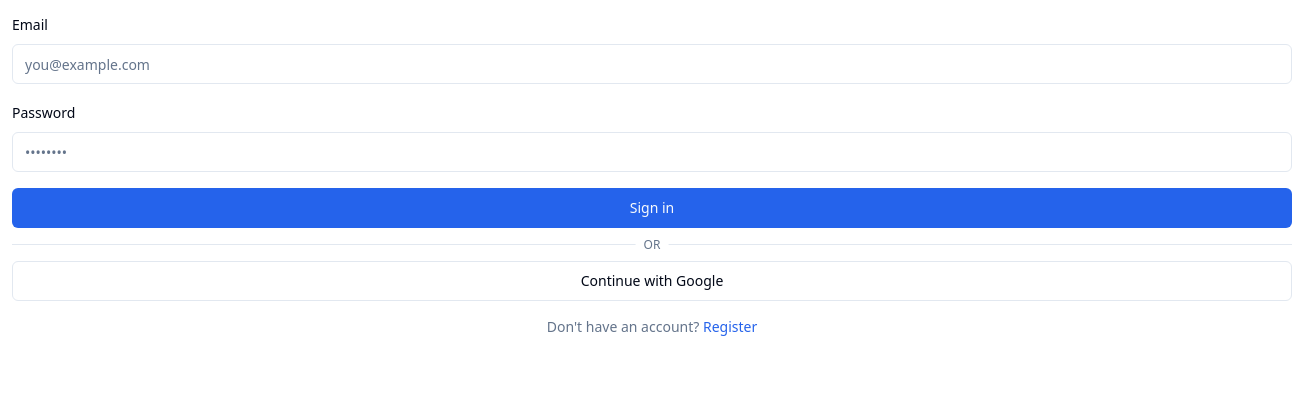
Test: LoginForm › shows email validation error for invalid email
Type "not-an-email" into the field with placeholder "you@example.com".
click(652, 64); type("not-an-email")  # box x1=12 y1=44 x2=1292 y2=84
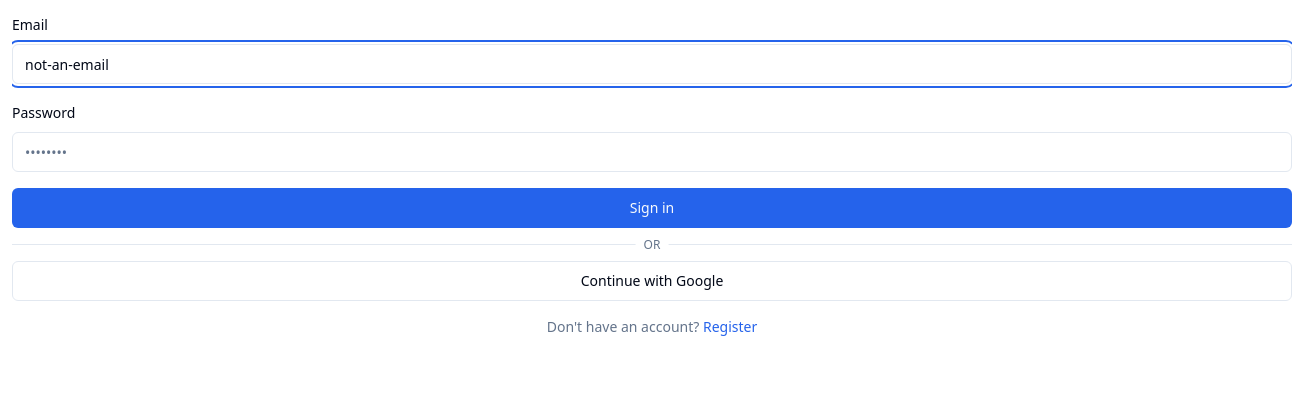
Click the button "Sign in".
click(652, 208)  # box x1=12 y1=188 x2=1292 y2=228
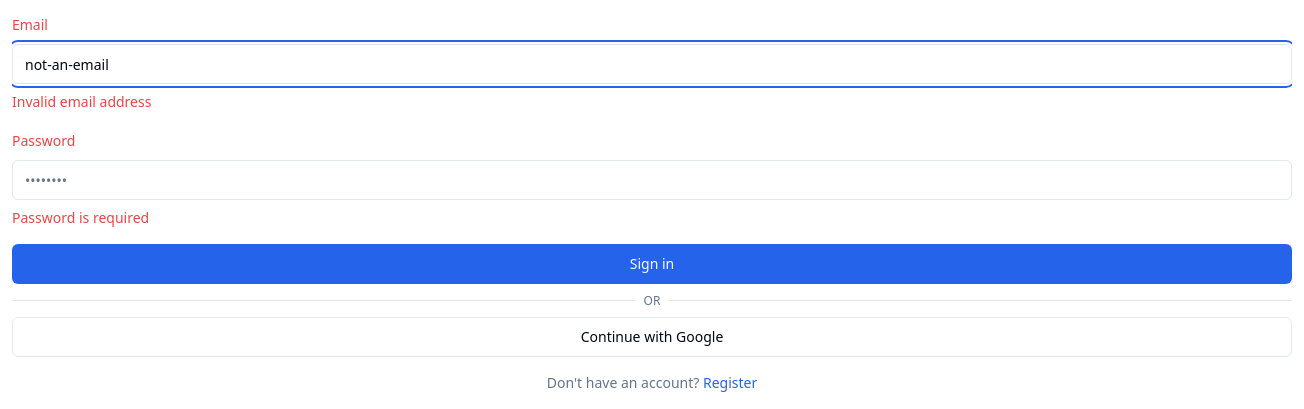
Result: the text "Invalid email address" is shown at x1=12 y1=92 x2=151 y2=111
